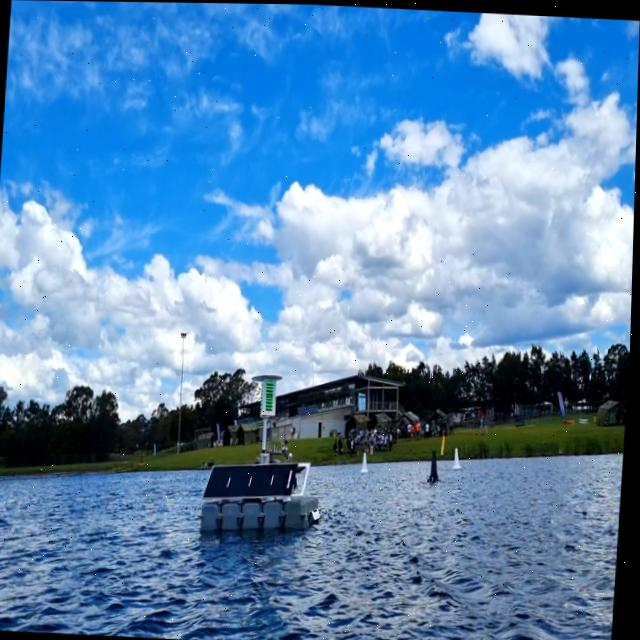led: (265, 376, 279, 412)
